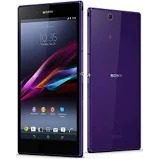sony: (15, 1, 85, 159), (85, 6, 140, 153)
